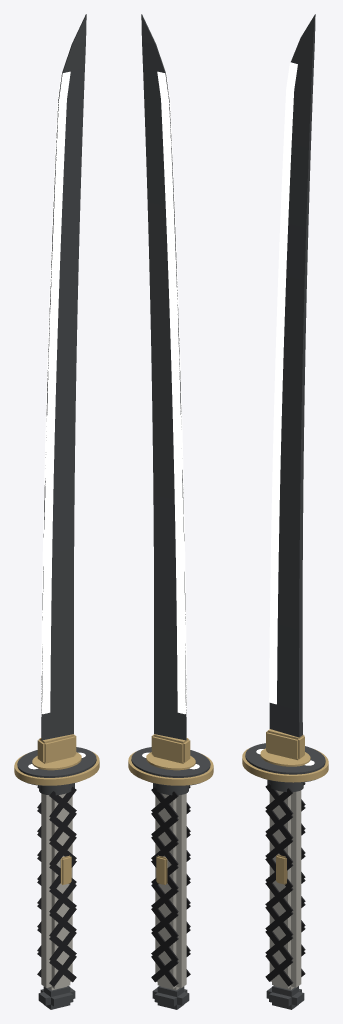
Rendered from katana_2.glb.
3 renders of one model, left to right at view 1: azimuth 30°, elevation 25°; view 2: azimuth 150°, elevation 25°; view 3: azimuth 330°, elevation 25°, orthographic.
Parts seen in each view (by area): view 1: katana_2_dark_steel, katana_2_glow, katana_2_skin, katana_2_wrap, katana_2_brass; view 2: katana_2_dark_steel, katana_2_glow, katana_2_skin, katana_2_wrap, katana_2_brass; view 3: katana_2_dark_steel, katana_2_glow, katana_2_skin, katana_2_wrap, katana_2_brass.
Part boxes in pixels (x1,y1,x2,y2): katana_2_dark_steel: (17, 14, 96, 1009); katana_2_glow: (28, 71, 85, 769); katana_2_skin: (41, 793, 72, 990); katana_2_wrap: (37, 785, 76, 986); katana_2_brass: (14, 734, 99, 884); katana_2_dark_steel: (131, 14, 210, 1009); katana_2_glow: (142, 71, 199, 769); katana_2_skin: (155, 793, 186, 990); katana_2_wrap: (151, 785, 190, 986); katana_2_brass: (128, 734, 213, 884); katana_2_dark_steel: (245, 14, 325, 1009); katana_2_glow: (256, 62, 314, 765); katana_2_skin: (269, 790, 301, 989); katana_2_wrap: (265, 782, 305, 986); katana_2_brass: (242, 729, 328, 884).
Bounding box in the file's own units: 0.088 × 1.07 × 0.0722.
